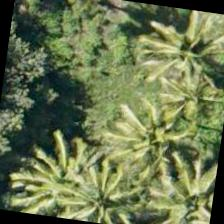Kelapa_Sawit: (113, 91, 214, 192), (6, 129, 107, 223), (144, 12, 223, 113), (55, 152, 154, 223)
